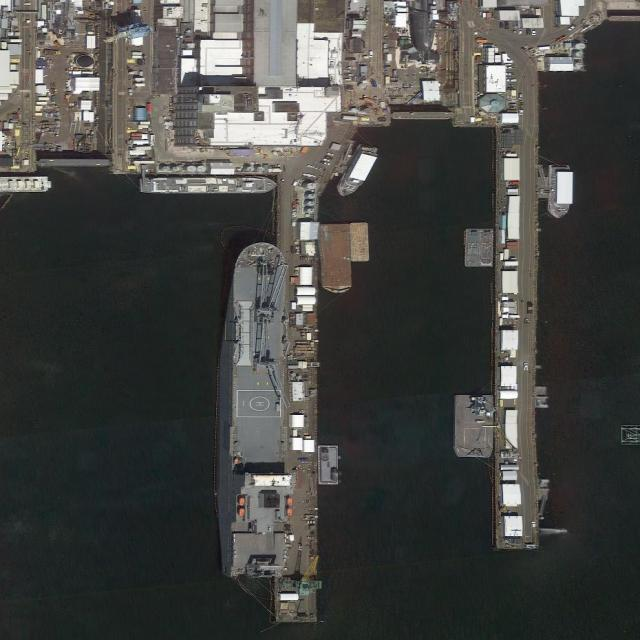Dock: (491, 126, 542, 548), (276, 171, 318, 622)
Other Ship: (335, 140, 381, 203), (322, 224, 352, 294), (548, 164, 574, 220)
RoRo: (212, 240, 297, 579)
